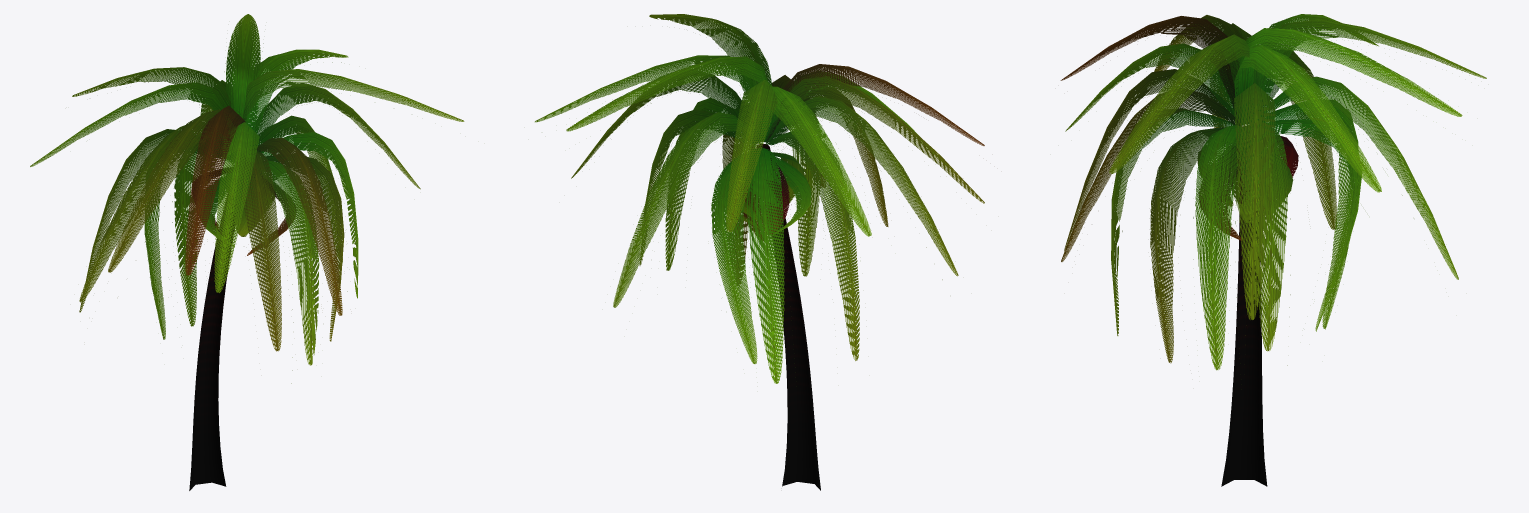
Rendered from palm_a.glb.
3 views of the same model, side by side, from view 1: azimuth 30°, elevation 25°; view 2: azimuth 150°, elevation 25°; view 3: azimuth 270°, elevation 25° (orthographic). The views are drawn at different scales.
Parts seen in each view (by area): view 1: Palm_A; view 2: Palm_A; view 3: Palm_A.
Part boxes in pixels (x1,y1,x2,y2): Palm_A: (30, 14, 464, 490); Palm_A: (535, 14, 984, 490); Palm_A: (1060, 14, 1486, 486).
Size of the model in its own units: 9.85 by 10.35 by 9.2.
Materials: 1 (1 with a texture image).
